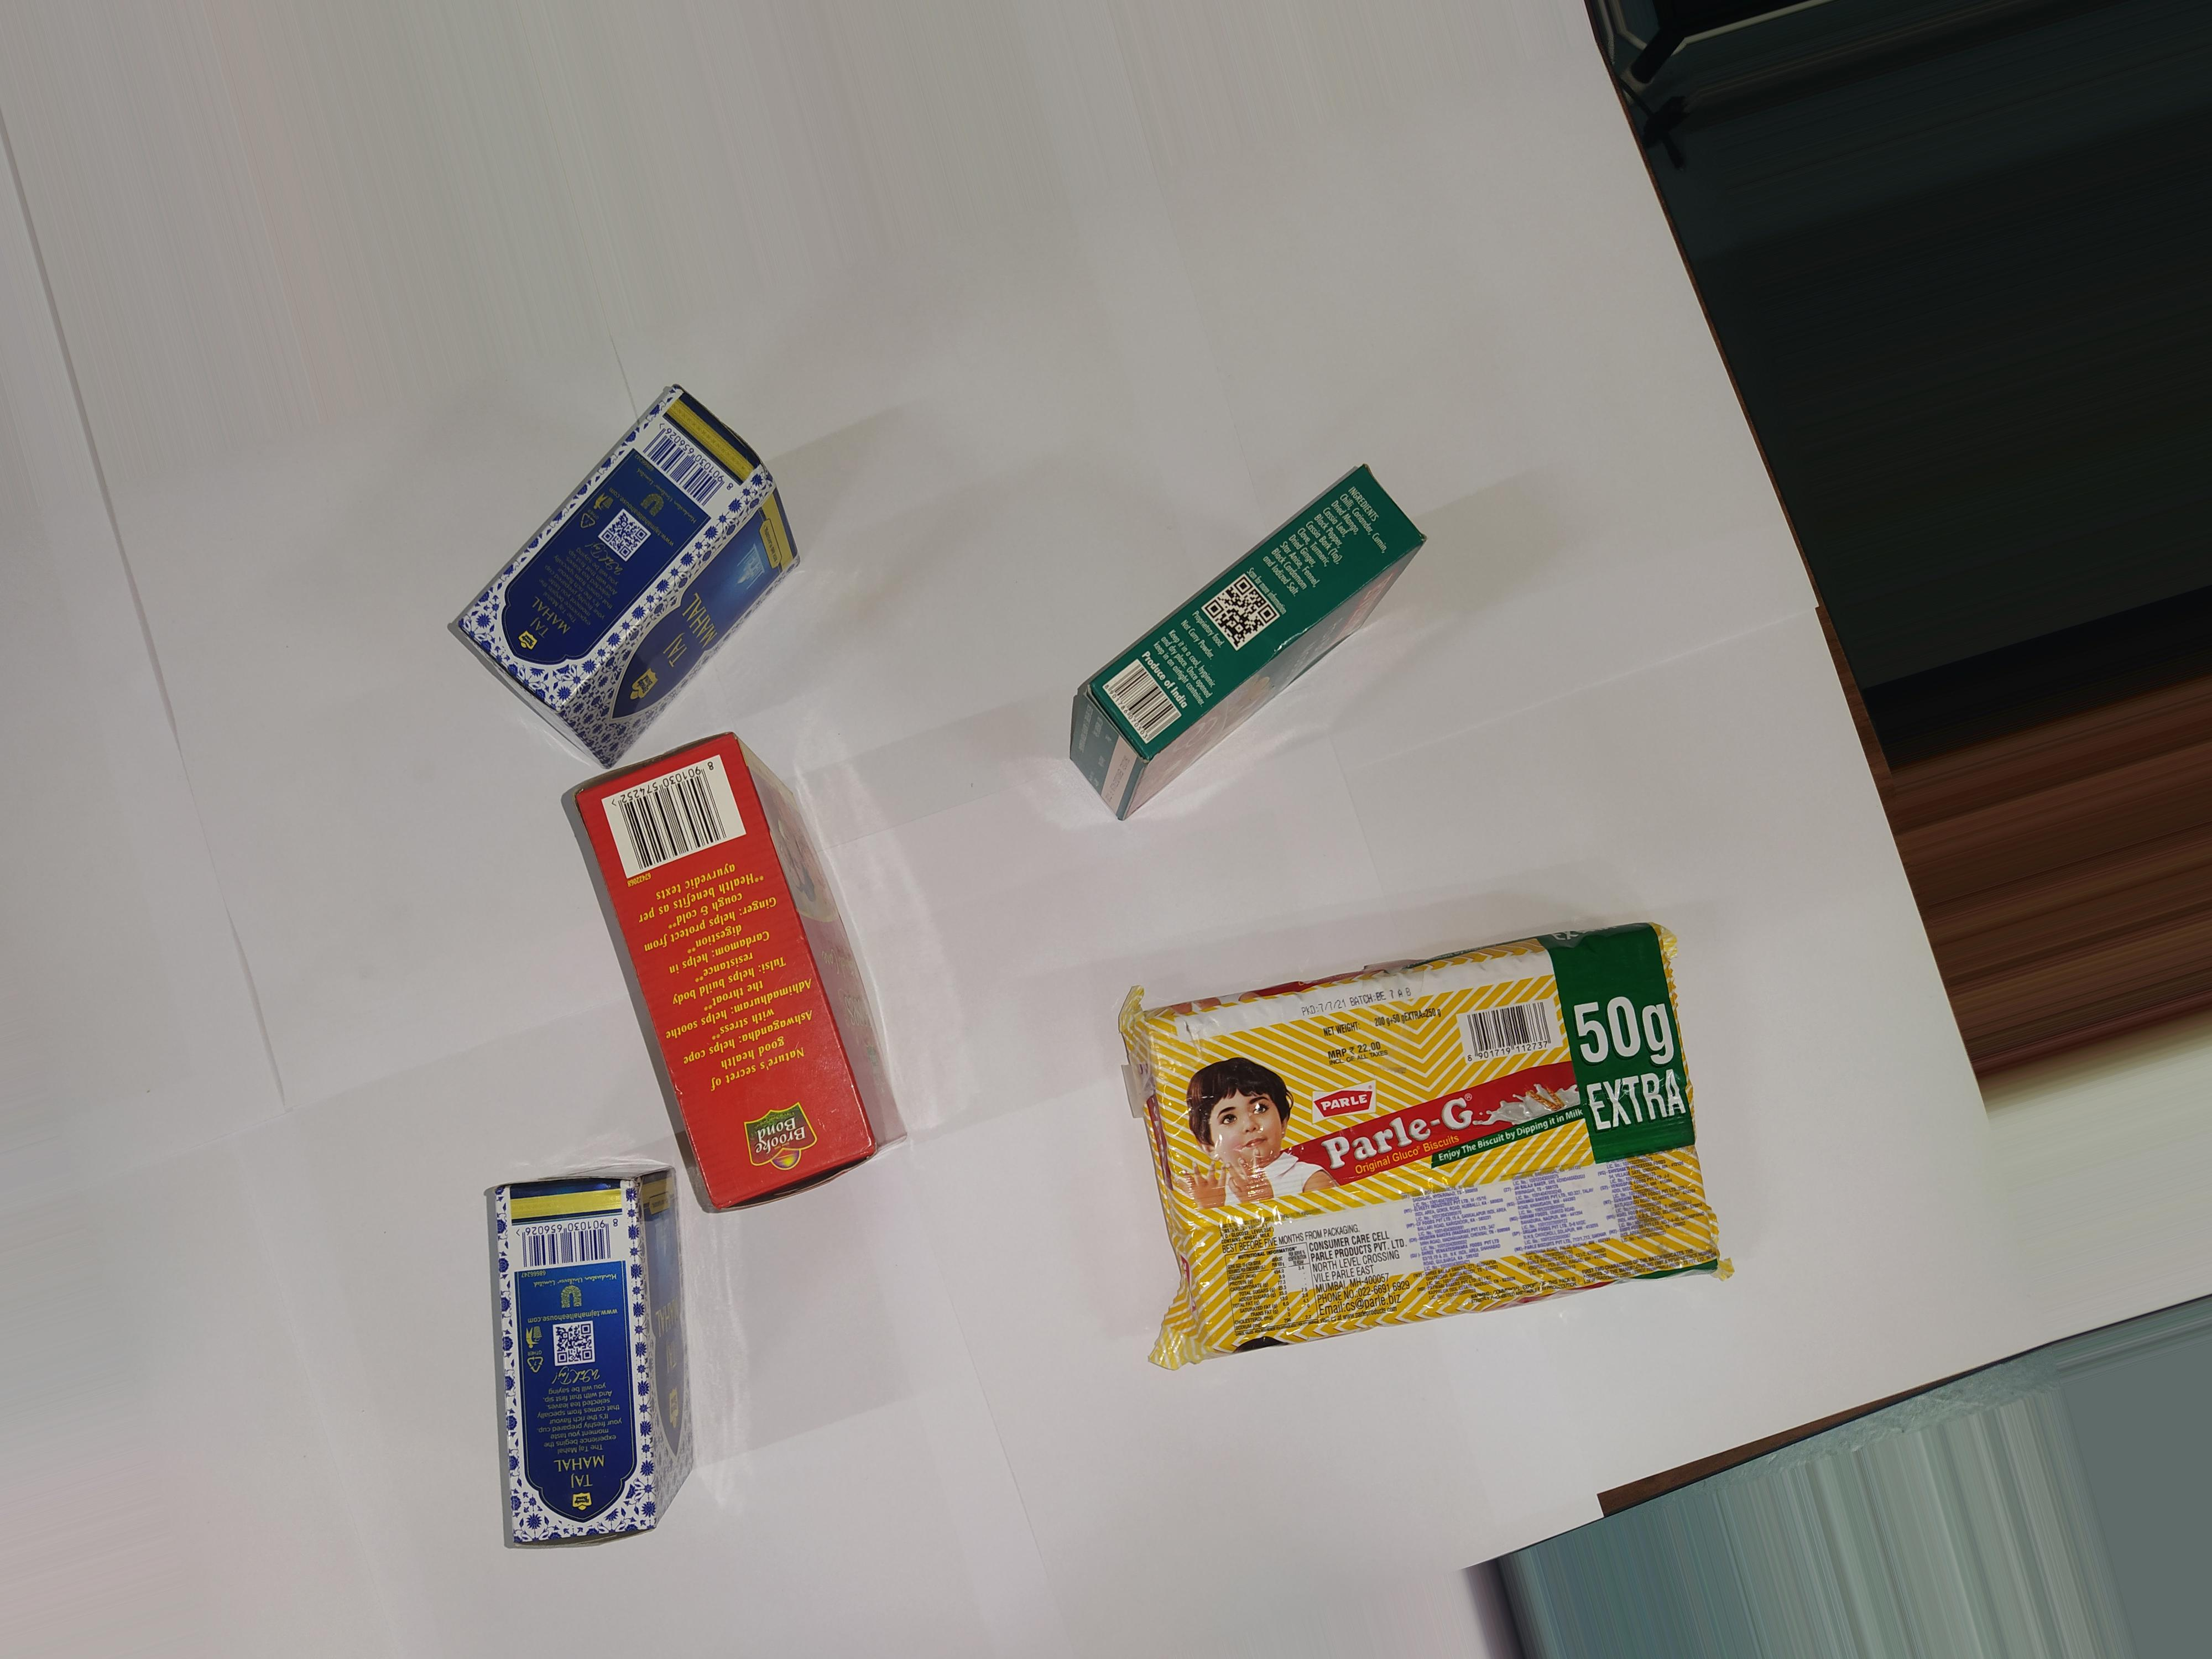Bar_code: (599, 751, 766, 878), (1089, 653, 1195, 758), (631, 429, 745, 512), (509, 1209, 632, 1272), (1451, 1002, 1569, 1063)
Item: (1066, 920, 1804, 1351), (1055, 422, 1601, 856), (547, 735, 981, 1222), (442, 361, 846, 767), (463, 1143, 752, 1568)
QR_code: (1193, 570, 1303, 657), (590, 505, 662, 565), (554, 1310, 610, 1373)
